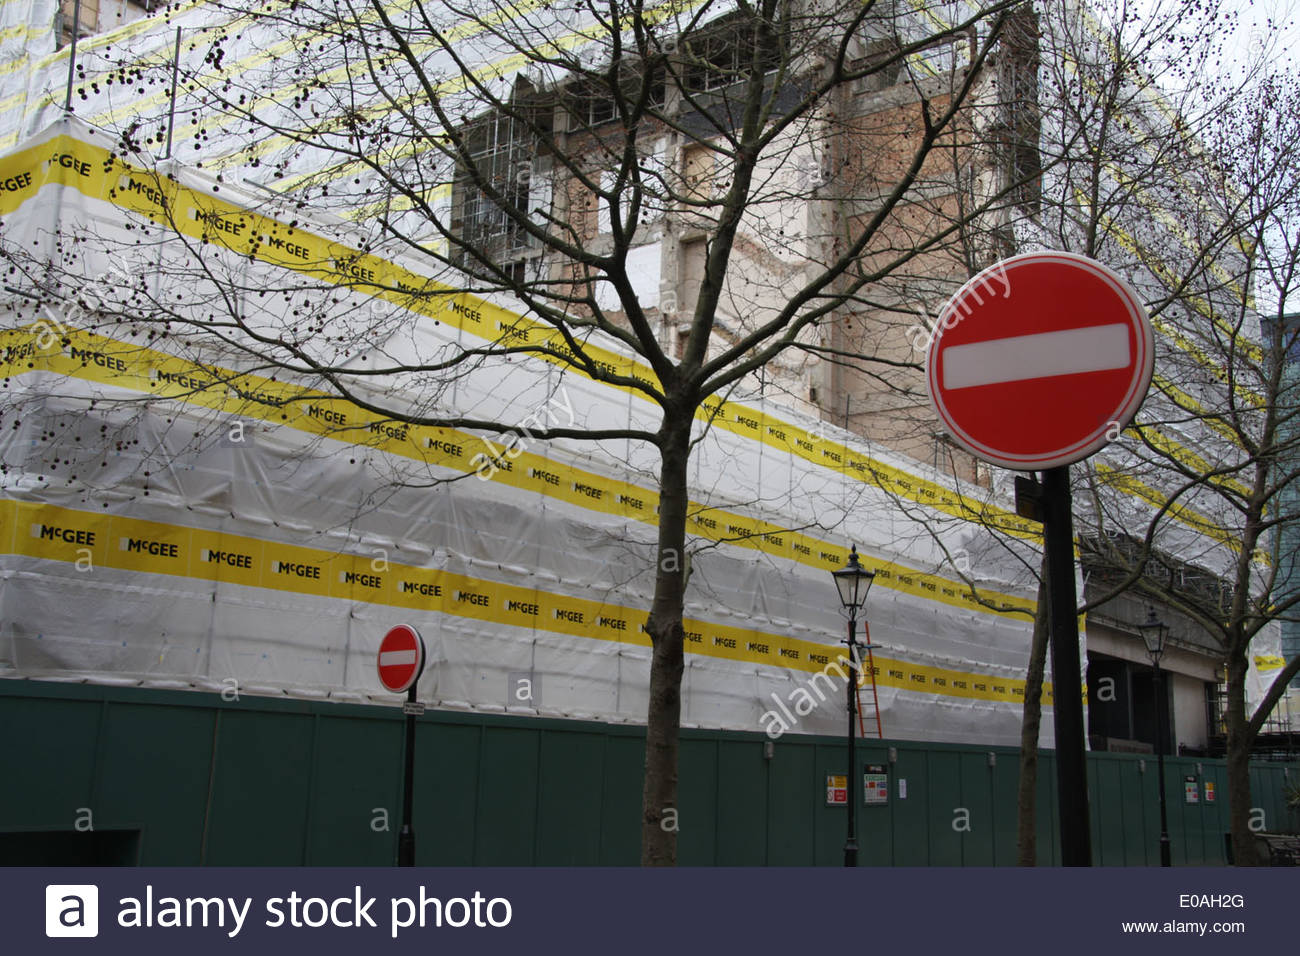No_entry: (922, 250, 1155, 470), (376, 624, 424, 694)
